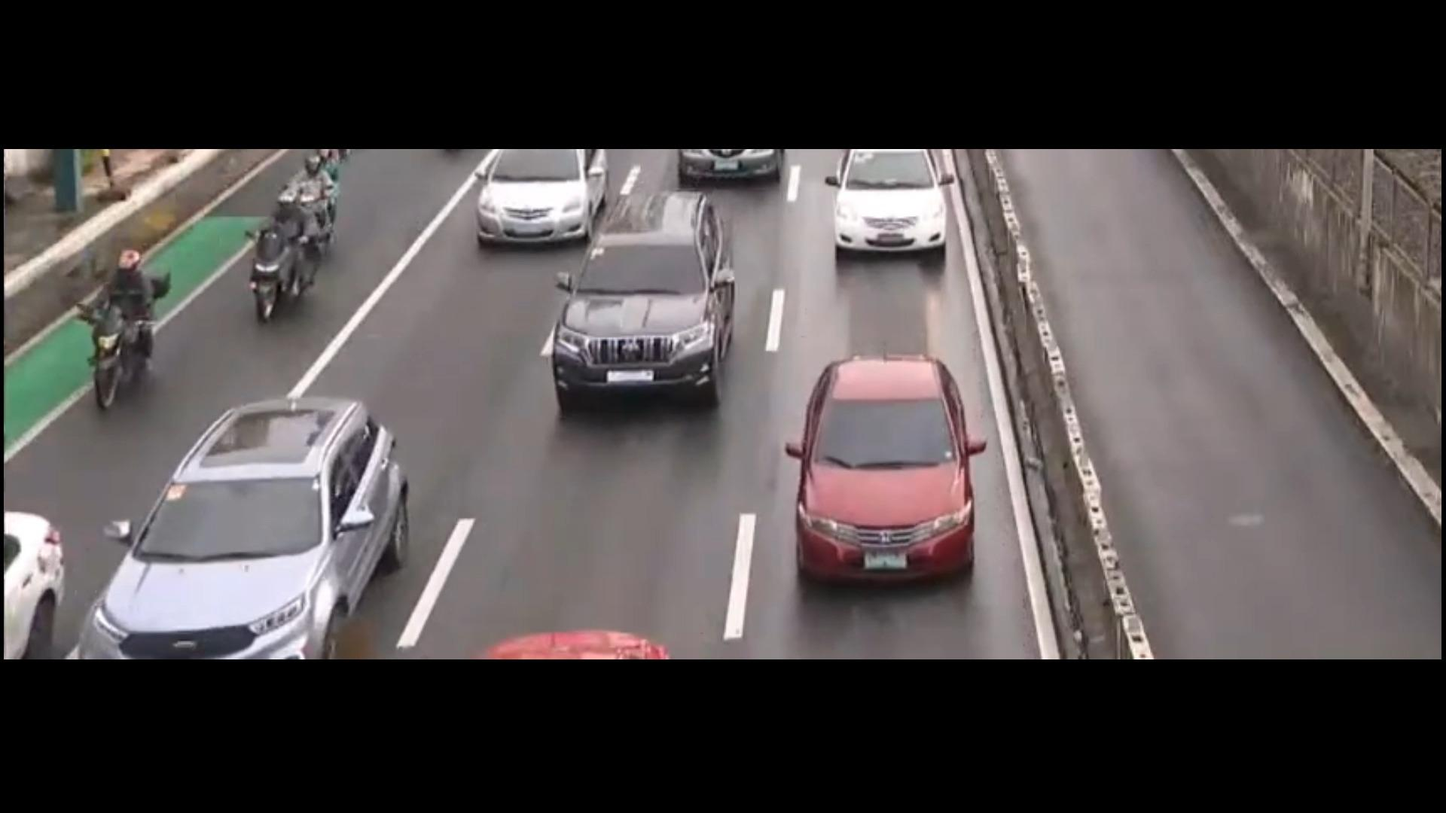Motorcycle: (81, 235, 158, 412), (239, 179, 311, 322), (277, 149, 352, 267)
SUV: (75, 399, 405, 662), (550, 192, 734, 412)
Sedan: (783, 350, 973, 583), (830, 152, 953, 260), (471, 149, 602, 245)
